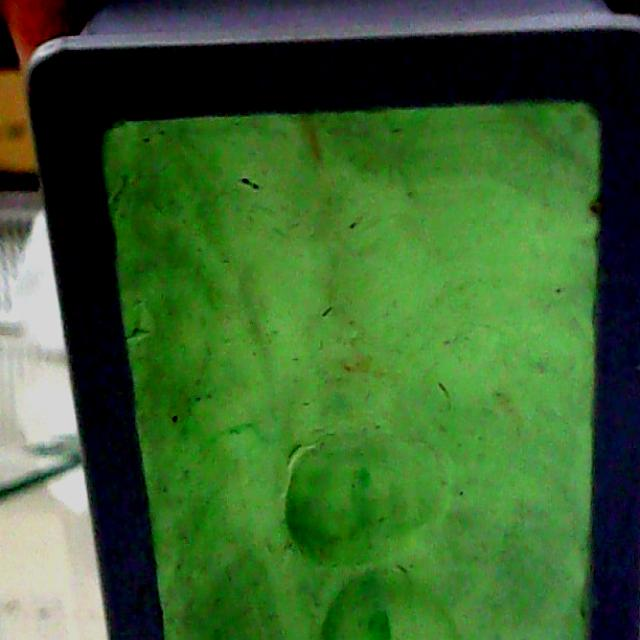block: (35, 2, 640, 634)
